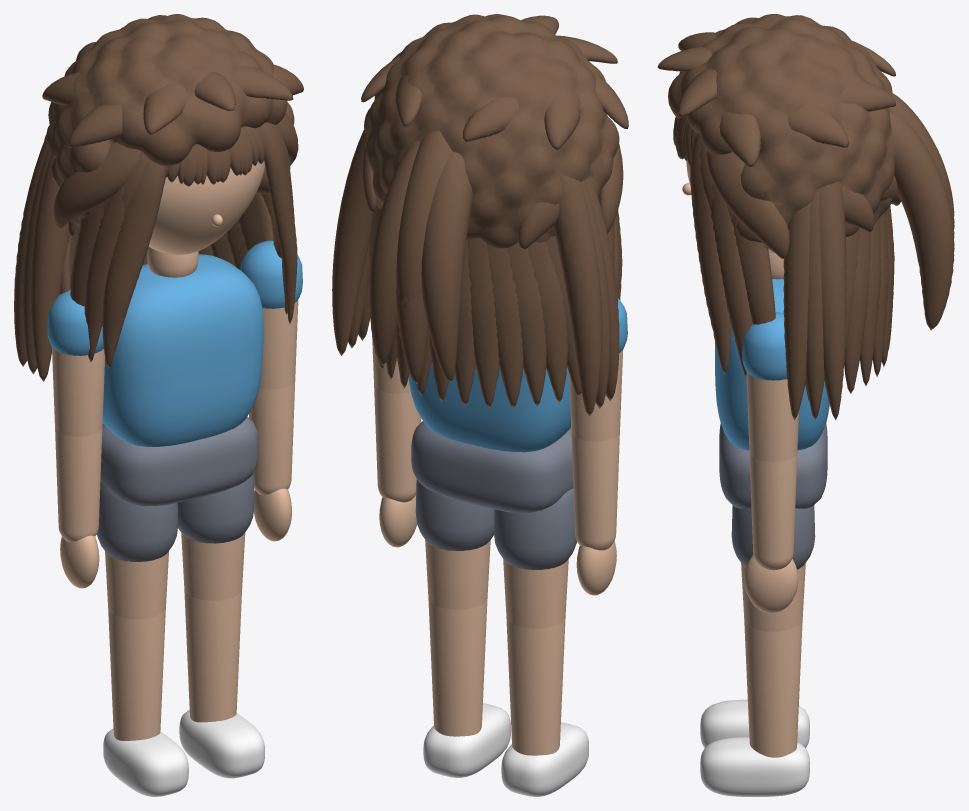
Rendered from character.glb.
The picture shows the model from 3 angles, left to right: view 1: azimuth 30°, elevation 25°; view 2: azimuth 150°, elevation 25°; view 3: azimuth 270°, elevation 25°; orthographic projection. The views are drawn at different scales.
Parts seen in each view (by area): view 1: Torso, Hair_curly, Hair_long, Hair_spiky, Pelvis, Hair_twintails, LowerLeg_L, LowerLeg_R, Head, LowerArm_R, Shorts_R, Shoe_L (+13 smaller); view 2: Hair_curly, Hair_long, Hair_ponytail, Hair_twintails, Pelvis, Hair_spiky, Torso, LowerLeg_L, LowerLeg_R, LowerArm_R, Shorts_R, LowerArm_L (+9 smaller); view 3: Hair_curly, Hair_long, Hair_twintails, Hair_spiky, Hair_ponytail, LowerLeg_L, Shoe_L, LowerArm_L, Torso, Pelvis, UpperArm_L, Sleeve_L (+5 smaller).
Part boxes in pixels (x1,y1,x2,y2): Torso: (102,254,263,446); Hair_curly: (44,14,294,226); Hair_long: (59,122,297,368); Hair_spiky: (42,42,303,228); Pelvis: (100,416,258,506); Hair_twintails: (14,137,273,381); LowerLeg_L: (184,590,241,722); LowerLeg_R: (108,608,165,740); Head: (148,161,264,254); LowerArm_R: (55,428,102,542); Shorts_R: (96,482,178,562); Shoe_L: (179,710,264,778); Hair_curly: (364,14,619,248); Hair_long: (369,204,622,408); Hair_ponytail: (369,130,472,383); Hair_twintails: (332,129,619,416); Pelvis: (411,421,573,512); Hair_spiky: (361,15,628,249); Torso: (408,361,570,452); LowerLeg_L: (428,598,487,736); LowerLeg_R: (506,617,565,755); LowerArm_R: (571,432,619,550); Shorts_R: (493,488,577,570); LowerArm_L: (374,384,421,502); Hair_curly: (668,14,896,250); Hair_long: (674,116,894,399); Hair_twintails: (673,129,846,420); Hair_spiky: (657,32,900,259); Hair_ponytail: (673,91,954,330); LowerLeg_L: (744,620,802,757); Shoe_L: (700,737,809,796); LowerArm_L: (749,452,797,570); Torso: (715,279,829,450); Pelvis: (719,423,827,508); UpperArm_L: (746,372,798,461); Sleeve_L: (742,312,787,380).
Size of the model in its own units: 0.5813 by 1.58 by 0.5694.
